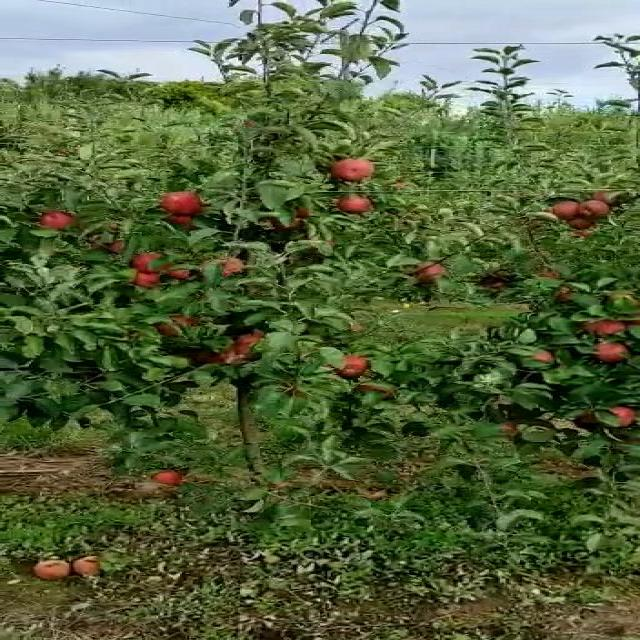100-_ripeness: (582, 338, 629, 366), (156, 189, 208, 214), (589, 403, 640, 428), (335, 155, 378, 183), (35, 207, 78, 234), (129, 253, 175, 274), (328, 353, 368, 377), (215, 334, 260, 354), (586, 315, 626, 337), (216, 255, 248, 280), (333, 193, 371, 214), (544, 202, 582, 223), (149, 468, 186, 489), (520, 350, 555, 371), (153, 317, 196, 334), (129, 269, 169, 286), (420, 260, 445, 285), (582, 201, 616, 218), (567, 215, 591, 231)
